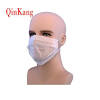cloth_mask: (27, 36, 60, 66)
